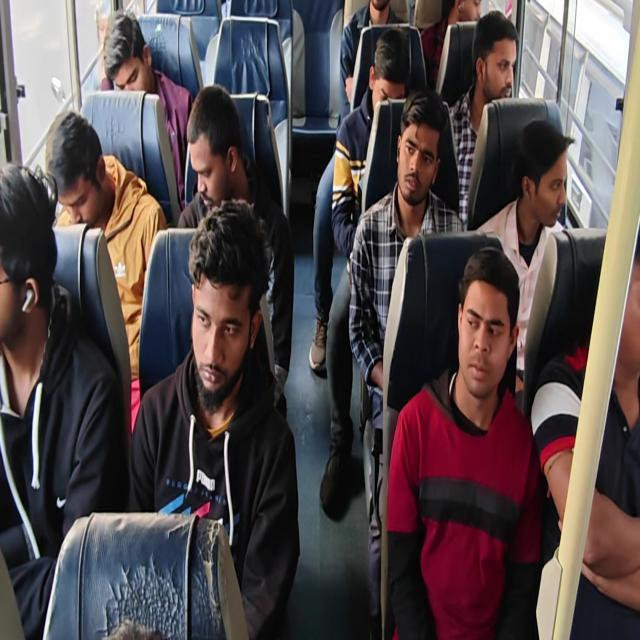person: (1, 1, 638, 638), (128, 198, 300, 638), (348, 87, 464, 637), (385, 246, 545, 638), (0, 161, 128, 638), (530, 222, 640, 638), (319, 28, 410, 521), (176, 83, 295, 419), (47, 110, 168, 434), (474, 118, 574, 400), (330, 29, 410, 264), (102, 11, 193, 208), (447, 9, 519, 228), (338, 0, 408, 125), (420, 0, 482, 90)
